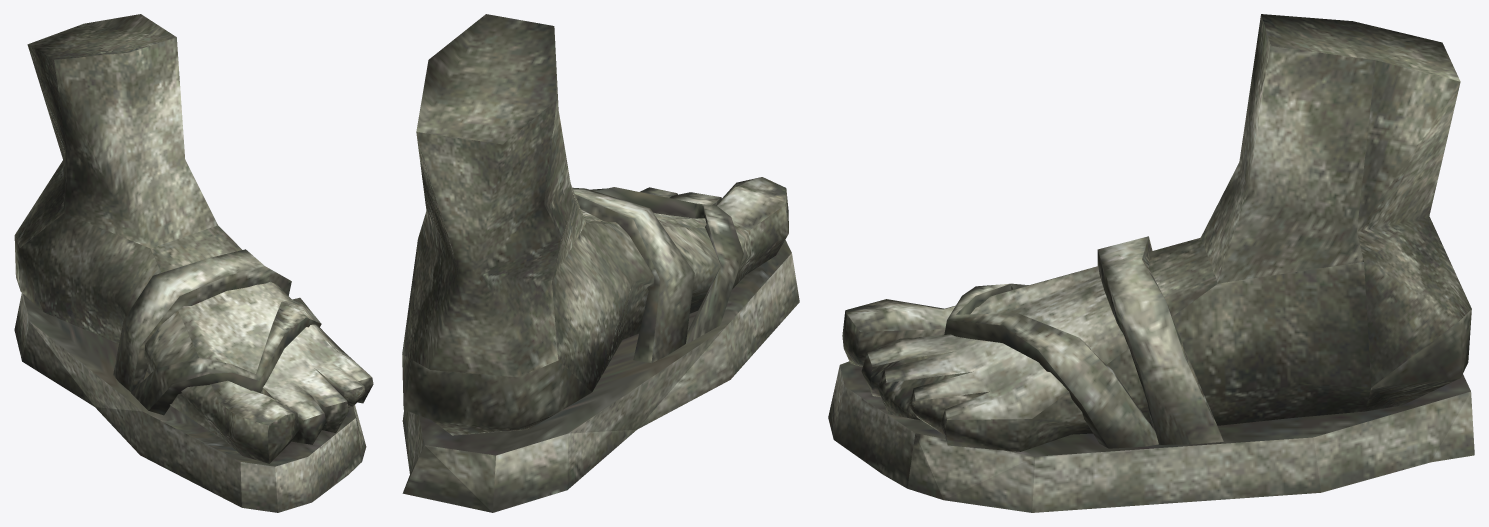
Rendered from ob-bigstatue03.fbx.
3 renders of one model, left to right at view 1: azimuth 30°, elevation 25°; view 2: azimuth 150°, elevation 25°; view 3: azimuth 270°, elevation 25°, orthographic. The views are drawn at different scales.
Parts seen in each view (by area): view 1: Box503; view 2: Box503; view 3: Box503.
Part boxes in pixels (x1,y1,x2,y2): Box503: (14, 14, 373, 512); Box503: (402, 14, 799, 512); Box503: (828, 14, 1474, 512).
Size of the model in its own units: 1.88 by 2.98 by 4.18.
